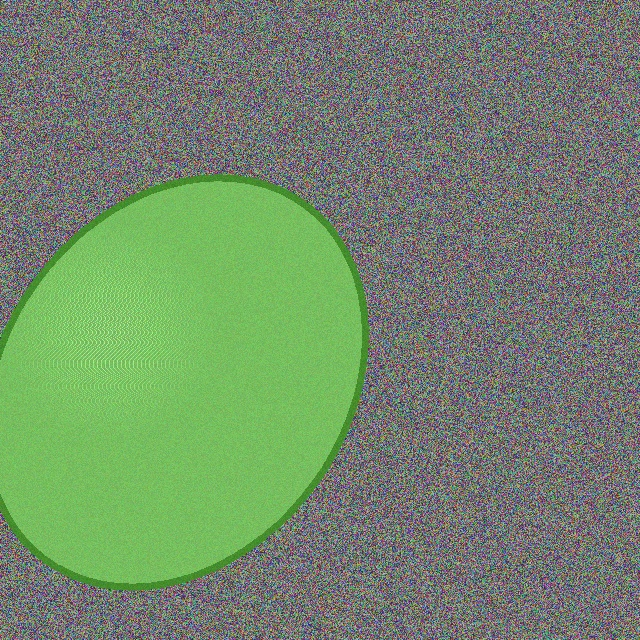lens: (0, 177, 365, 587)
